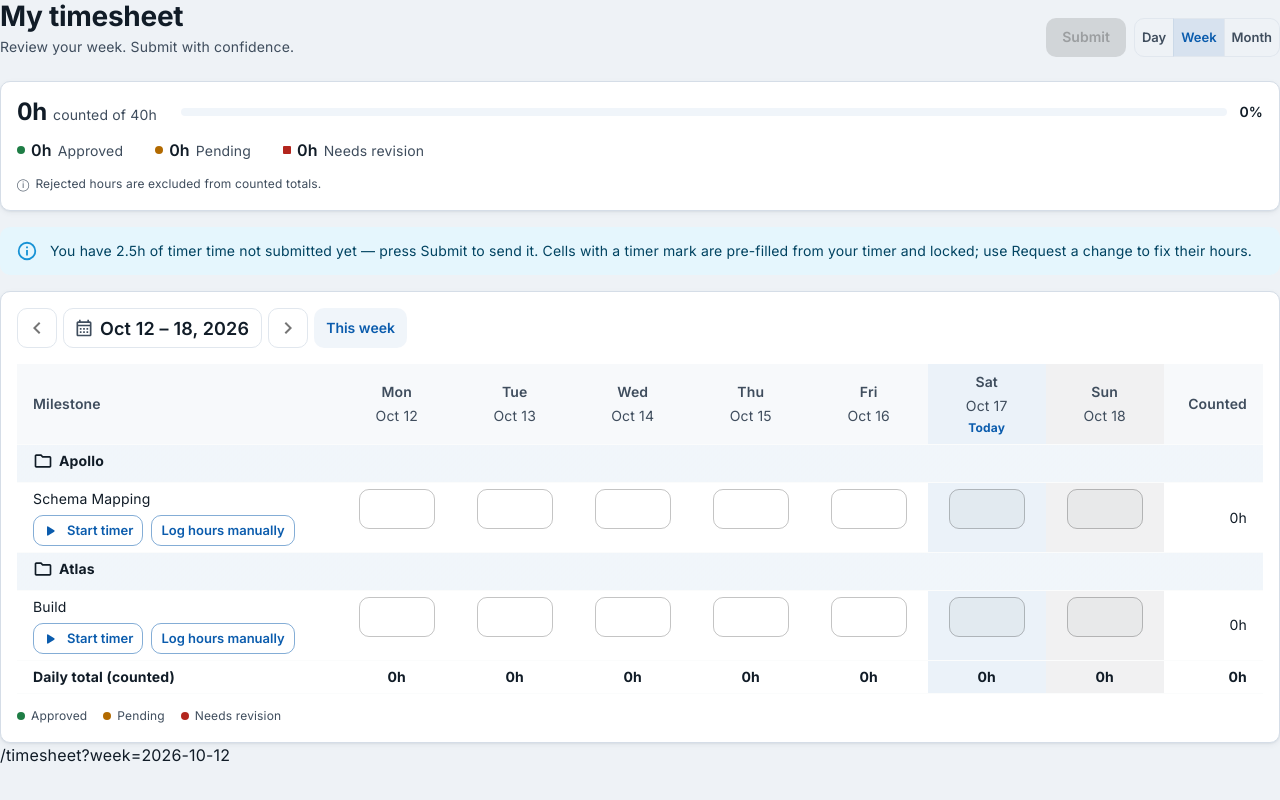
Test: timesheet: timer drafts are pre-filled, locked and submitted with the Submit button › the server's lock refusal is explained
Type "1" into the field named "Schema Mapping, Tue Oct 13". click: [515, 509]
box: [477, 489, 553, 529]
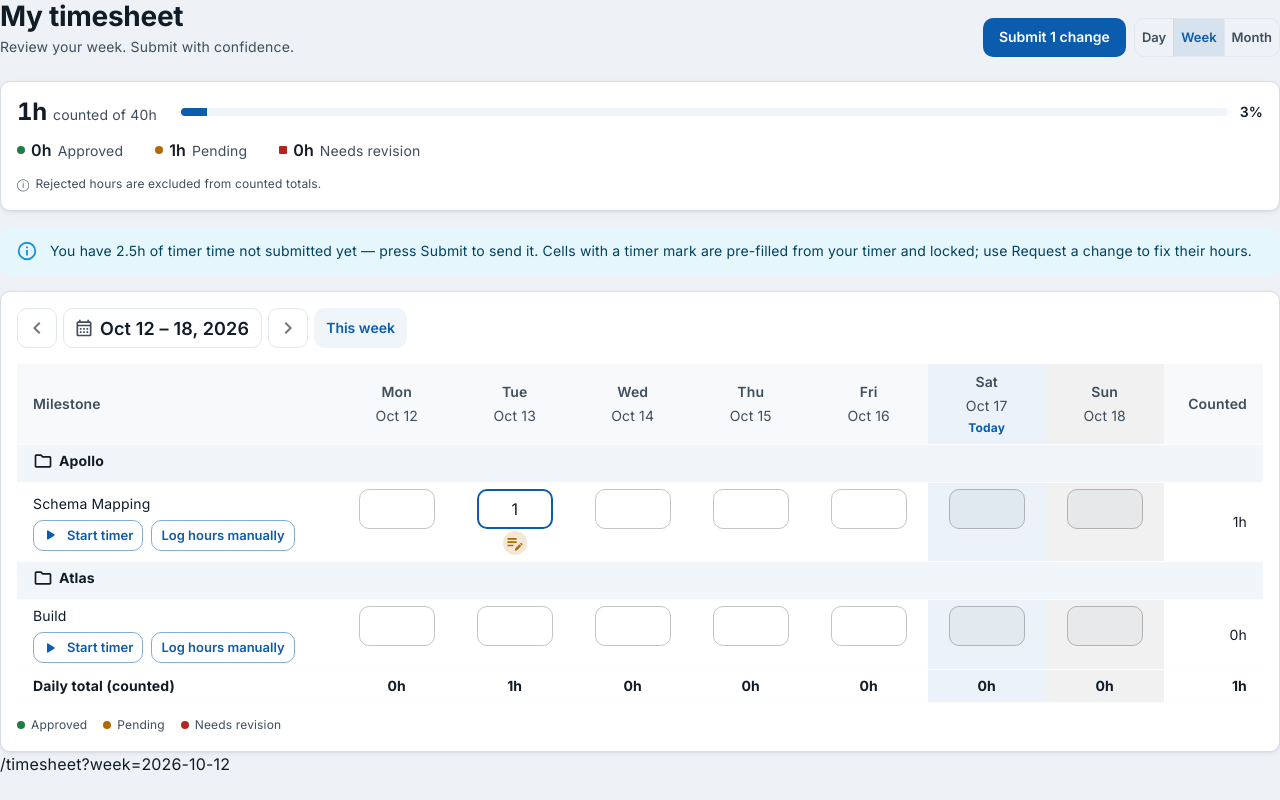
Click the button "Submit 1 change". click: [1054, 37]
box: [983, 18, 1126, 57]
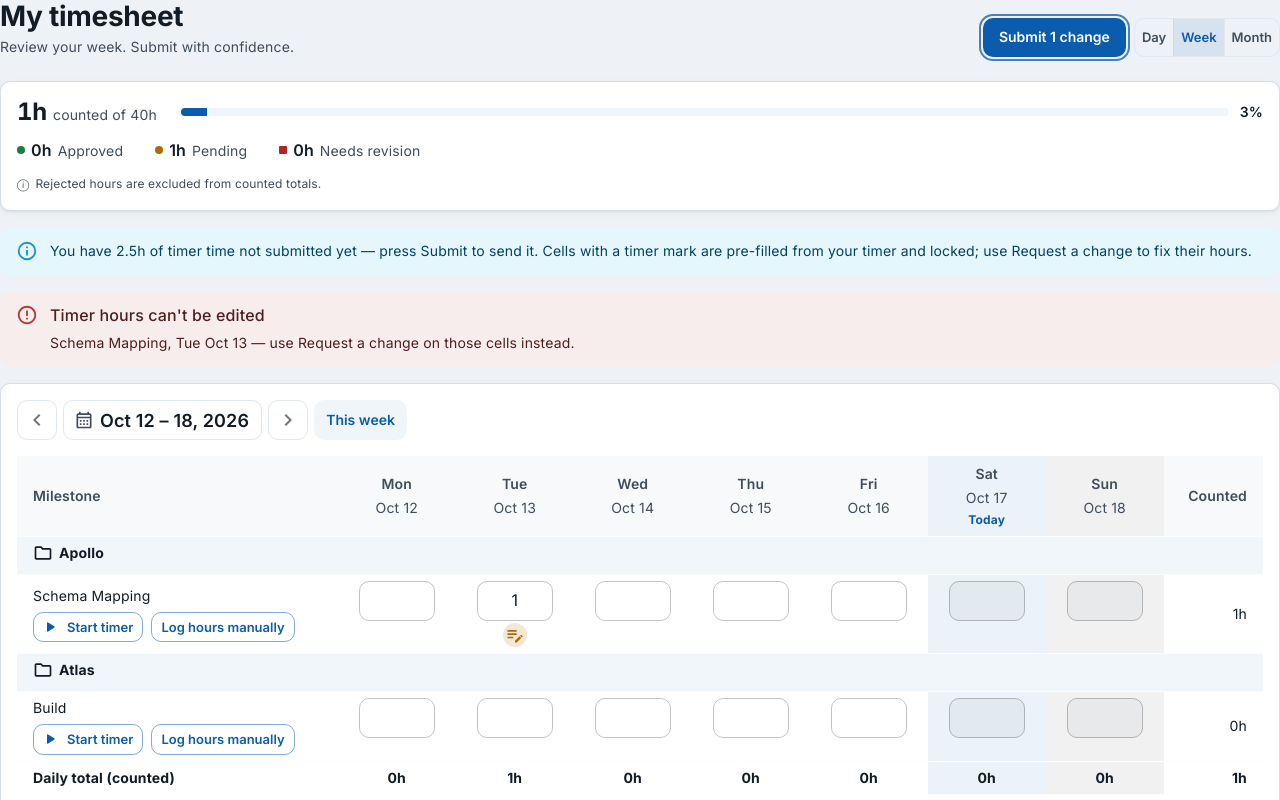
Expected: the message that starts with "Timer hours can't be edited" shows "Schema Mapping, Tue Oct 13 — use Request a change on those cells instead.", [0, 291, 1279, 367]
